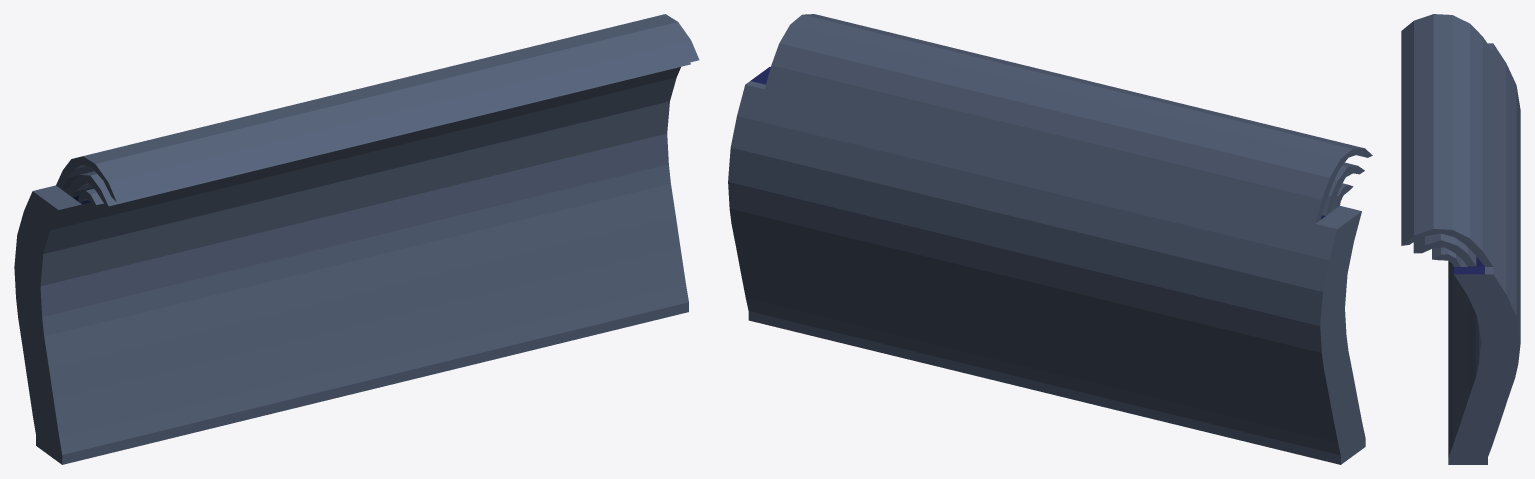
File: WaveWall.glb
The picture shows the model from 3 angles, left to right: view 1: azimuth 30°, elevation 25°; view 2: azimuth 150°, elevation 25°; view 3: azimuth 270°, elevation 25°; orthographic projection. The views are drawn at different scales.
Parts seen in each view (by area): view 1: pCube1; view 2: pCube1; view 3: pCube1.
Boxes of the visible parts, x1,y1,x2,y2 form: pCube1: (14, 14, 699, 464); pCube1: (728, 14, 1372, 464); pCube1: (1401, 14, 1520, 464).
Size of the model in its own units: 0.6625 by 0.3054 by 0.1448.
